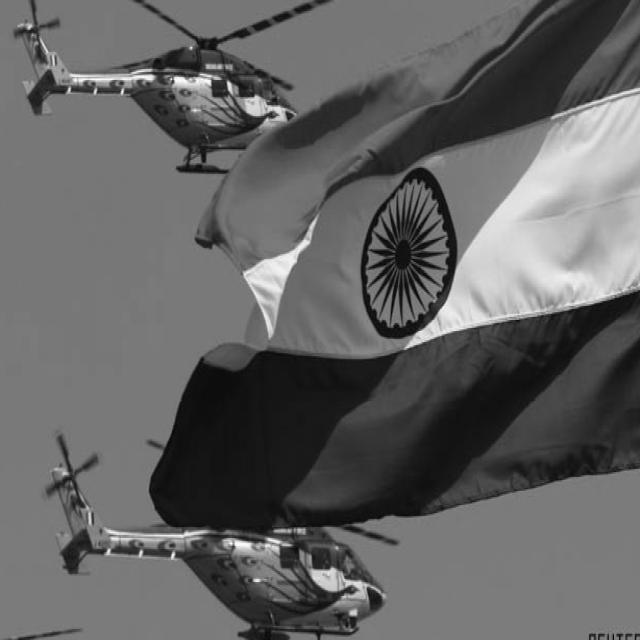helicopter: (49, 429, 414, 640), (12, 4, 340, 178), (1, 600, 81, 640)
